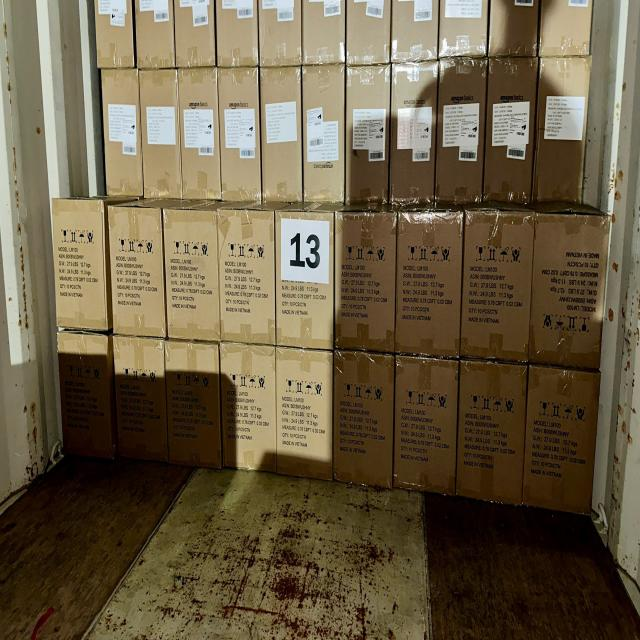Carton: (533, 210, 610, 368), (528, 366, 600, 514), (464, 212, 534, 362), (458, 361, 526, 506), (396, 212, 462, 356), (334, 213, 396, 354), (396, 360, 459, 496), (275, 213, 335, 349), (333, 356, 393, 489), (218, 212, 276, 346), (51, 198, 108, 334), (538, 60, 590, 208), (108, 207, 166, 339), (274, 350, 332, 482), (166, 211, 224, 342), (221, 346, 279, 474), (56, 334, 113, 462), (166, 344, 223, 470), (112, 341, 169, 464), (487, 60, 535, 206), (437, 57, 483, 206), (392, 65, 439, 205), (301, 65, 344, 205), (261, 67, 303, 204), (347, 66, 388, 205), (220, 70, 260, 203), (141, 70, 181, 200), (182, 73, 222, 202), (103, 73, 142, 200), (392, 0, 439, 62), (542, 0, 594, 56), (260, 0, 304, 66), (96, 0, 137, 70), (346, 0, 390, 65), (214, 0, 256, 68), (442, 0, 491, 58), (488, 0, 537, 58), (301, 0, 344, 65), (177, 0, 218, 68), (133, 0, 173, 68)
